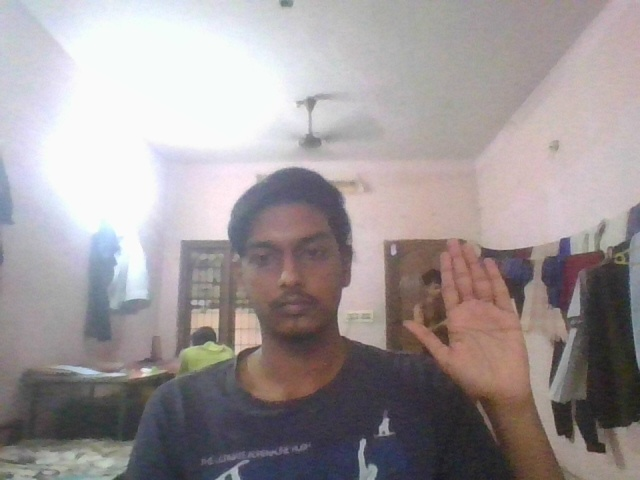hello: (397, 236, 534, 410)
